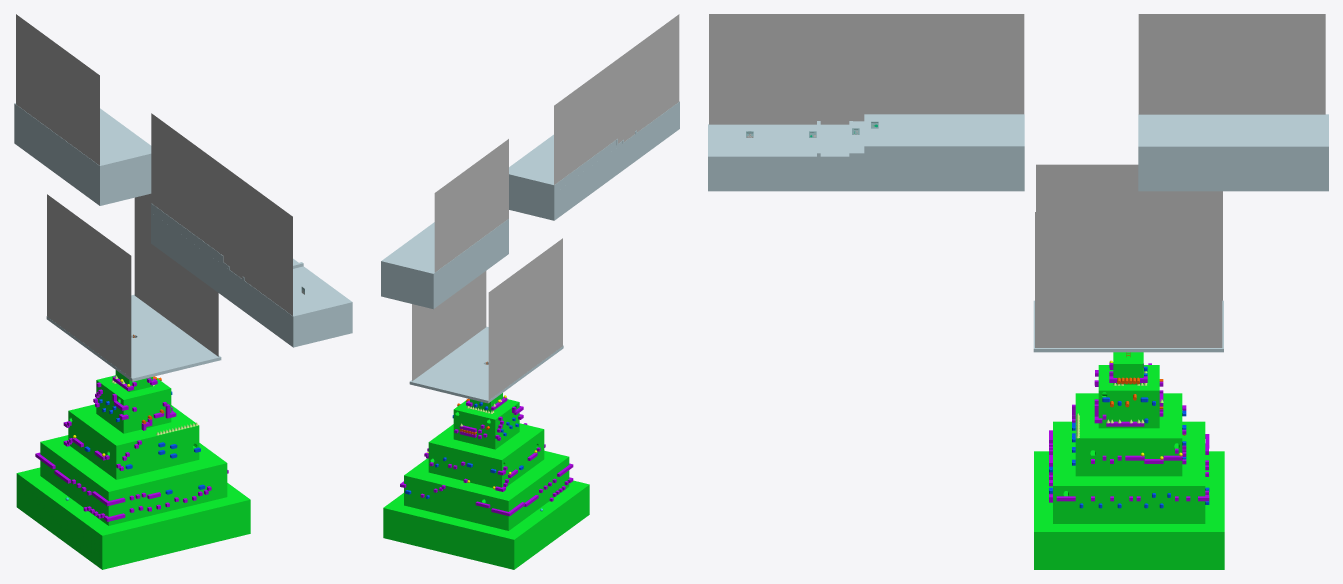
Rendered from plataformas.fbx.
The picture shows the model from 3 angles, left to right: view 1: azimuth 30°, elevation 25°; view 2: azimuth 150°, elevation 25°; view 3: azimuth 270°, elevation 25°; orthographic projection. The views are drawn at different scales.
Parts seen in each view (by area): view 1: Plane.003, Piso normal, Plane.007, Cube.162, primer nivel con cueva, Plane.005, Cube.163, Plane.008, segundo nivel con cueva, Cube.155, tercer nivel con cueva, Cube.158; view 2: Plane.003, Piso normal, Plane.007, primer nivel con cueva, Plane.005, Cube.163, Cube.162, segundo nivel con cueva, Plane.008, Cube.155, tercer nivel con cueva, Cube.158 (+1 smaller); view 3: Plane.003, Plane.008, Plane.005, Cube.162, Cube.163, Piso normal, primer nivel con cueva, Plane.007, segundo nivel con cueva, Cube.158, tercer nivel con cueva, Cube.155 (+2 smaller).
Boxes of the visible parts, x1,y1,x2,y2 form: Plane.003: (151,113,292,315); Piso normal: (16,467,250,569); Plane.007: (47,194,131,377); Cube.162: (151,212,352,347); primer nivel con cueva: (40,435,227,525); Plane.005: (16,14,99,165); Cube.163: (14,103,151,205); Plane.008: (134,193,218,356); segundo nivel con cueva: (68,404,199,479); Cube.155: (46,294,221,381); tercer nivel con cueva: (96,375,171,433); Cube.158: (151,203,221,260); Plane.003: (554,14,679,184); Piso normal: (383,480,589,569); Plane.007: (488,238,562,399); primer nivel con cueva: (404,450,569,530); Plane.005: (434,139,508,272); Cube.163: (381,219,508,309); Cube.162: (509,101,679,220); segundo nivel con cueva: (428,423,544,487); Plane.008: (412,271,486,381); Cube.155: (409,326,563,403); tercer nivel con cueva: (453,399,519,449); Cube.158: (509,134,616,190); Plane.003: (709,14,1024,124); Plane.008: (1035,212,1222,347); Plane.005: (1138,14,1325,114); Cube.162: (708,124,1024,191); Cube.163: (1138,114,1328,191); Piso normal: (1034,451,1224,569); primer nivel con cueva: (1053,421,1205,523); Plane.007: (1036,164,1222,300); segundo nivel con cueva: (1075,393,1182,476); Cube.158: (868,114,1024,153); tercer nivel con cueva: (1098,365,1159,428); Cube.155: (1033,300,1223,352).
Bounding box in the file's own units: 5000 × 14469 × 16287.
